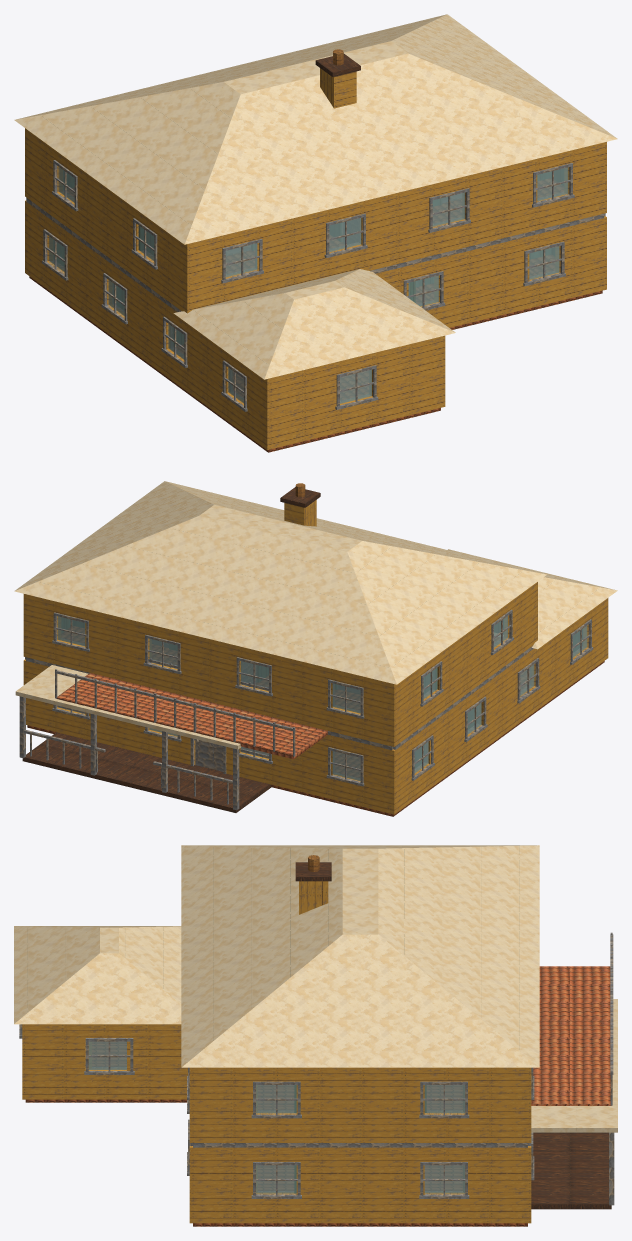
Rendered from prairie-corner.gltf.
3 views of the same model, one above another, from view 1: azimuth 30°, elevation 25°; view 2: azimuth 150°, elevation 25°; view 3: azimuth 270°, elevation 25° (orthographic). The views are drawn at different scales.
Parts seen in each view (by area): view 1: roof-L1-green-metal, exterior-L0-brick, exterior-L1-brick, roof-L0-green-metal, trim-L0-dark-wood, trim-L1-dark-wood, glazing-L1-glass, glazing-L0-glass, floor-L0-floor, exterior-L0-dark-wood, floor-L1-floor, details-L1-brick (+1 smaller); view 2: roof-L1-green-metal, exterior-L1-brick, exterior-L0-brick, balcony-L1-wood, porch-L0-stone, trim-L0-dark-wood, trim-L1-dark-wood, roof-L0-green-metal, porch-L0-dark-wood, glazing-L1-glass, porch-L0-green-metal, balcony-L1-dark-wood (+7 smaller); view 3: roof-L1-green-metal, exterior-L0-brick, exterior-L1-brick, roof-L0-green-metal, balcony-L1-wood, porch-L0-stone, floor-L0-floor, glazing-L0-glass, porch-L0-green-metal, trim-L0-dark-wood, glazing-L1-glass, trim-L1-dark-wood (+5 smaller).
Boxes of the visible parts, x1=… form: roof-L1-green-metal: x1=14, y1=14, x2=617, y2=244; exterior-L0-brick: x1=25, y1=200, x2=606, y2=450; exterior-L1-brick: x1=25, y1=128, x2=606, y2=313; roof-L0-green-metal: x1=173, y1=269, x2=455, y2=379; trim-L0-dark-wood: x1=42, y1=229, x2=565, y2=411; trim-L1-dark-wood: x1=52, y1=160, x2=574, y2=283; glazing-L1-glass: x1=58, y1=167, x2=568, y2=277; glazing-L0-glass: x1=49, y1=236, x2=559, y2=403; floor-L0-floor: x1=29, y1=255, x2=602, y2=452; exterior-L0-dark-wood: x1=26, y1=197, x2=605, y2=311; floor-L1-floor: x1=67, y1=178, x2=563, y2=273; details-L1-brick: x1=320, y1=68, x2=356, y2=108; roof-L1-green-metal: x1=14, y1=481, x2=547, y2=684; exterior-L1-brick: x1=23, y1=582, x2=537, y2=746; exterior-L0-brick: x1=23, y1=598, x2=608, y2=814; balcony-L1-wood: x1=56, y1=673, x2=327, y2=759; porch-L0-stone: x1=22, y1=732, x2=271, y2=812; trim-L0-dark-wood: x1=52, y1=619, x2=593, y2=786; trim-L1-dark-wood: x1=52, y1=609, x2=513, y2=718; roof-L0-green-metal: x1=448, y1=549, x2=617, y2=649; porch-L0-dark-wood: x1=19, y1=696, x2=268, y2=810; glazing-L1-glass: x1=57, y1=616, x2=507, y2=713; porch-L0-green-metal: x1=15, y1=665, x2=241, y2=749; balcony-L1-dark-wood: x1=55, y1=658, x2=295, y2=756; roof-L1-green-metal: x1=181, y1=845, x2=539, y2=1067; exterior-L0-brick: x1=22, y1=1024, x2=531, y2=1223; exterior-L1-brick: x1=189, y1=1067, x2=531, y2=1142; roof-L0-green-metal: x1=14, y1=926, x2=181, y2=1024; balcony-L1-wood: x1=531, y1=966, x2=611, y2=1105; porch-L0-stone: x1=531, y1=1132, x2=611, y2=1209; floor-L0-floor: x1=25, y1=1042, x2=527, y2=1226; glazing-L0-glass: x1=88, y1=1041, x2=465, y2=1193; porch-L0-green-metal: x1=531, y1=999, x2=617, y2=1132; trim-L0-dark-wood: x1=19, y1=1024, x2=534, y2=1198; glazing-L1-glass: x1=256, y1=1085, x2=465, y2=1113; trim-L1-dark-wood: x1=187, y1=1067, x2=534, y2=1118.
Bounding box in the file's own units: 12.56 × 6.94 × 14.43.
Materials: 10 (9 with a texture image).
